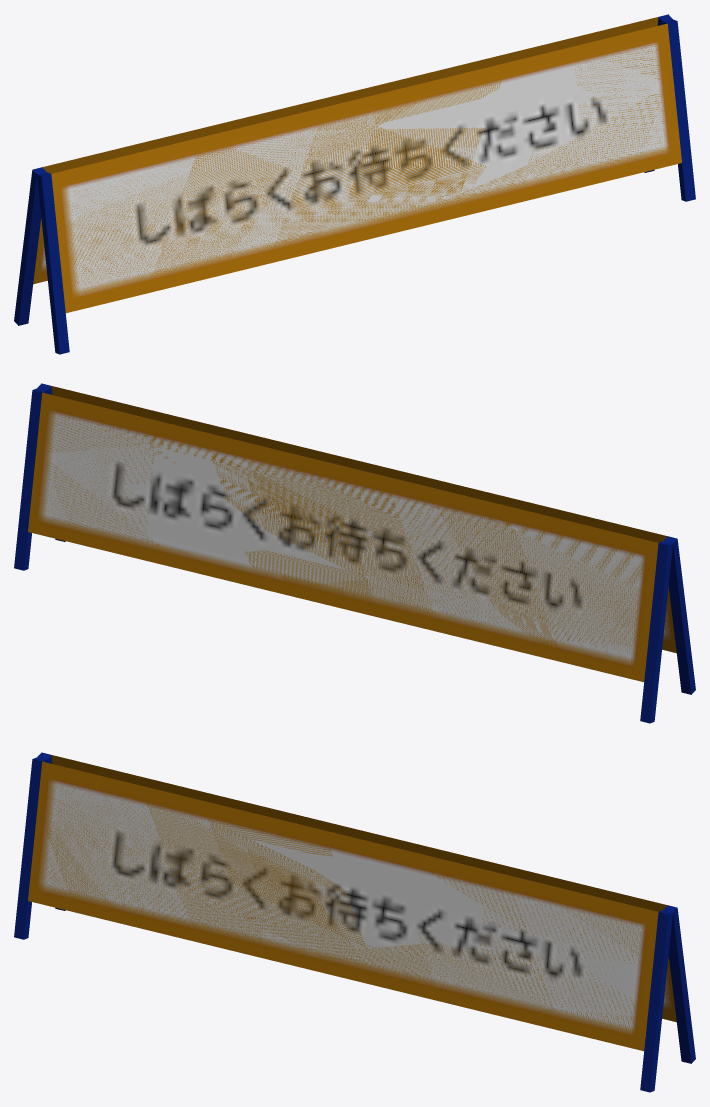
Rendered from Prop_Roadblock_C.fbx.
3 views of the same model, one above another, from view 1: azimuth 30°, elevation 25°; view 2: azimuth 150°, elevation 25°; view 3: azimuth 330°, elevation 25° (orthographic).
Visible parts, largest first — view 1: Prop_Roadblock_C; view 2: Prop_Roadblock_C; view 3: Prop_Roadblock_C.
Boxes of the visible parts, bbox=[...] form: Prop_Roadblock_C: bbox=[14, 14, 695, 354]; Prop_Roadblock_C: bbox=[14, 383, 695, 723]; Prop_Roadblock_C: bbox=[14, 752, 695, 1092].
Size of the model in its own units: 400 by 100 by 50.
